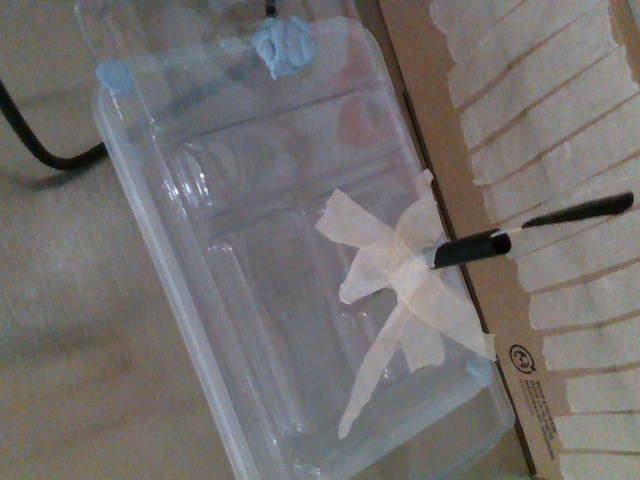test_strip: (490, 190, 633, 237)
